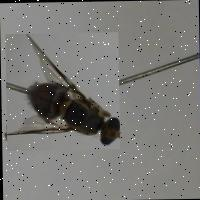Oriental-fruit-fly: (4, 31, 119, 150)
